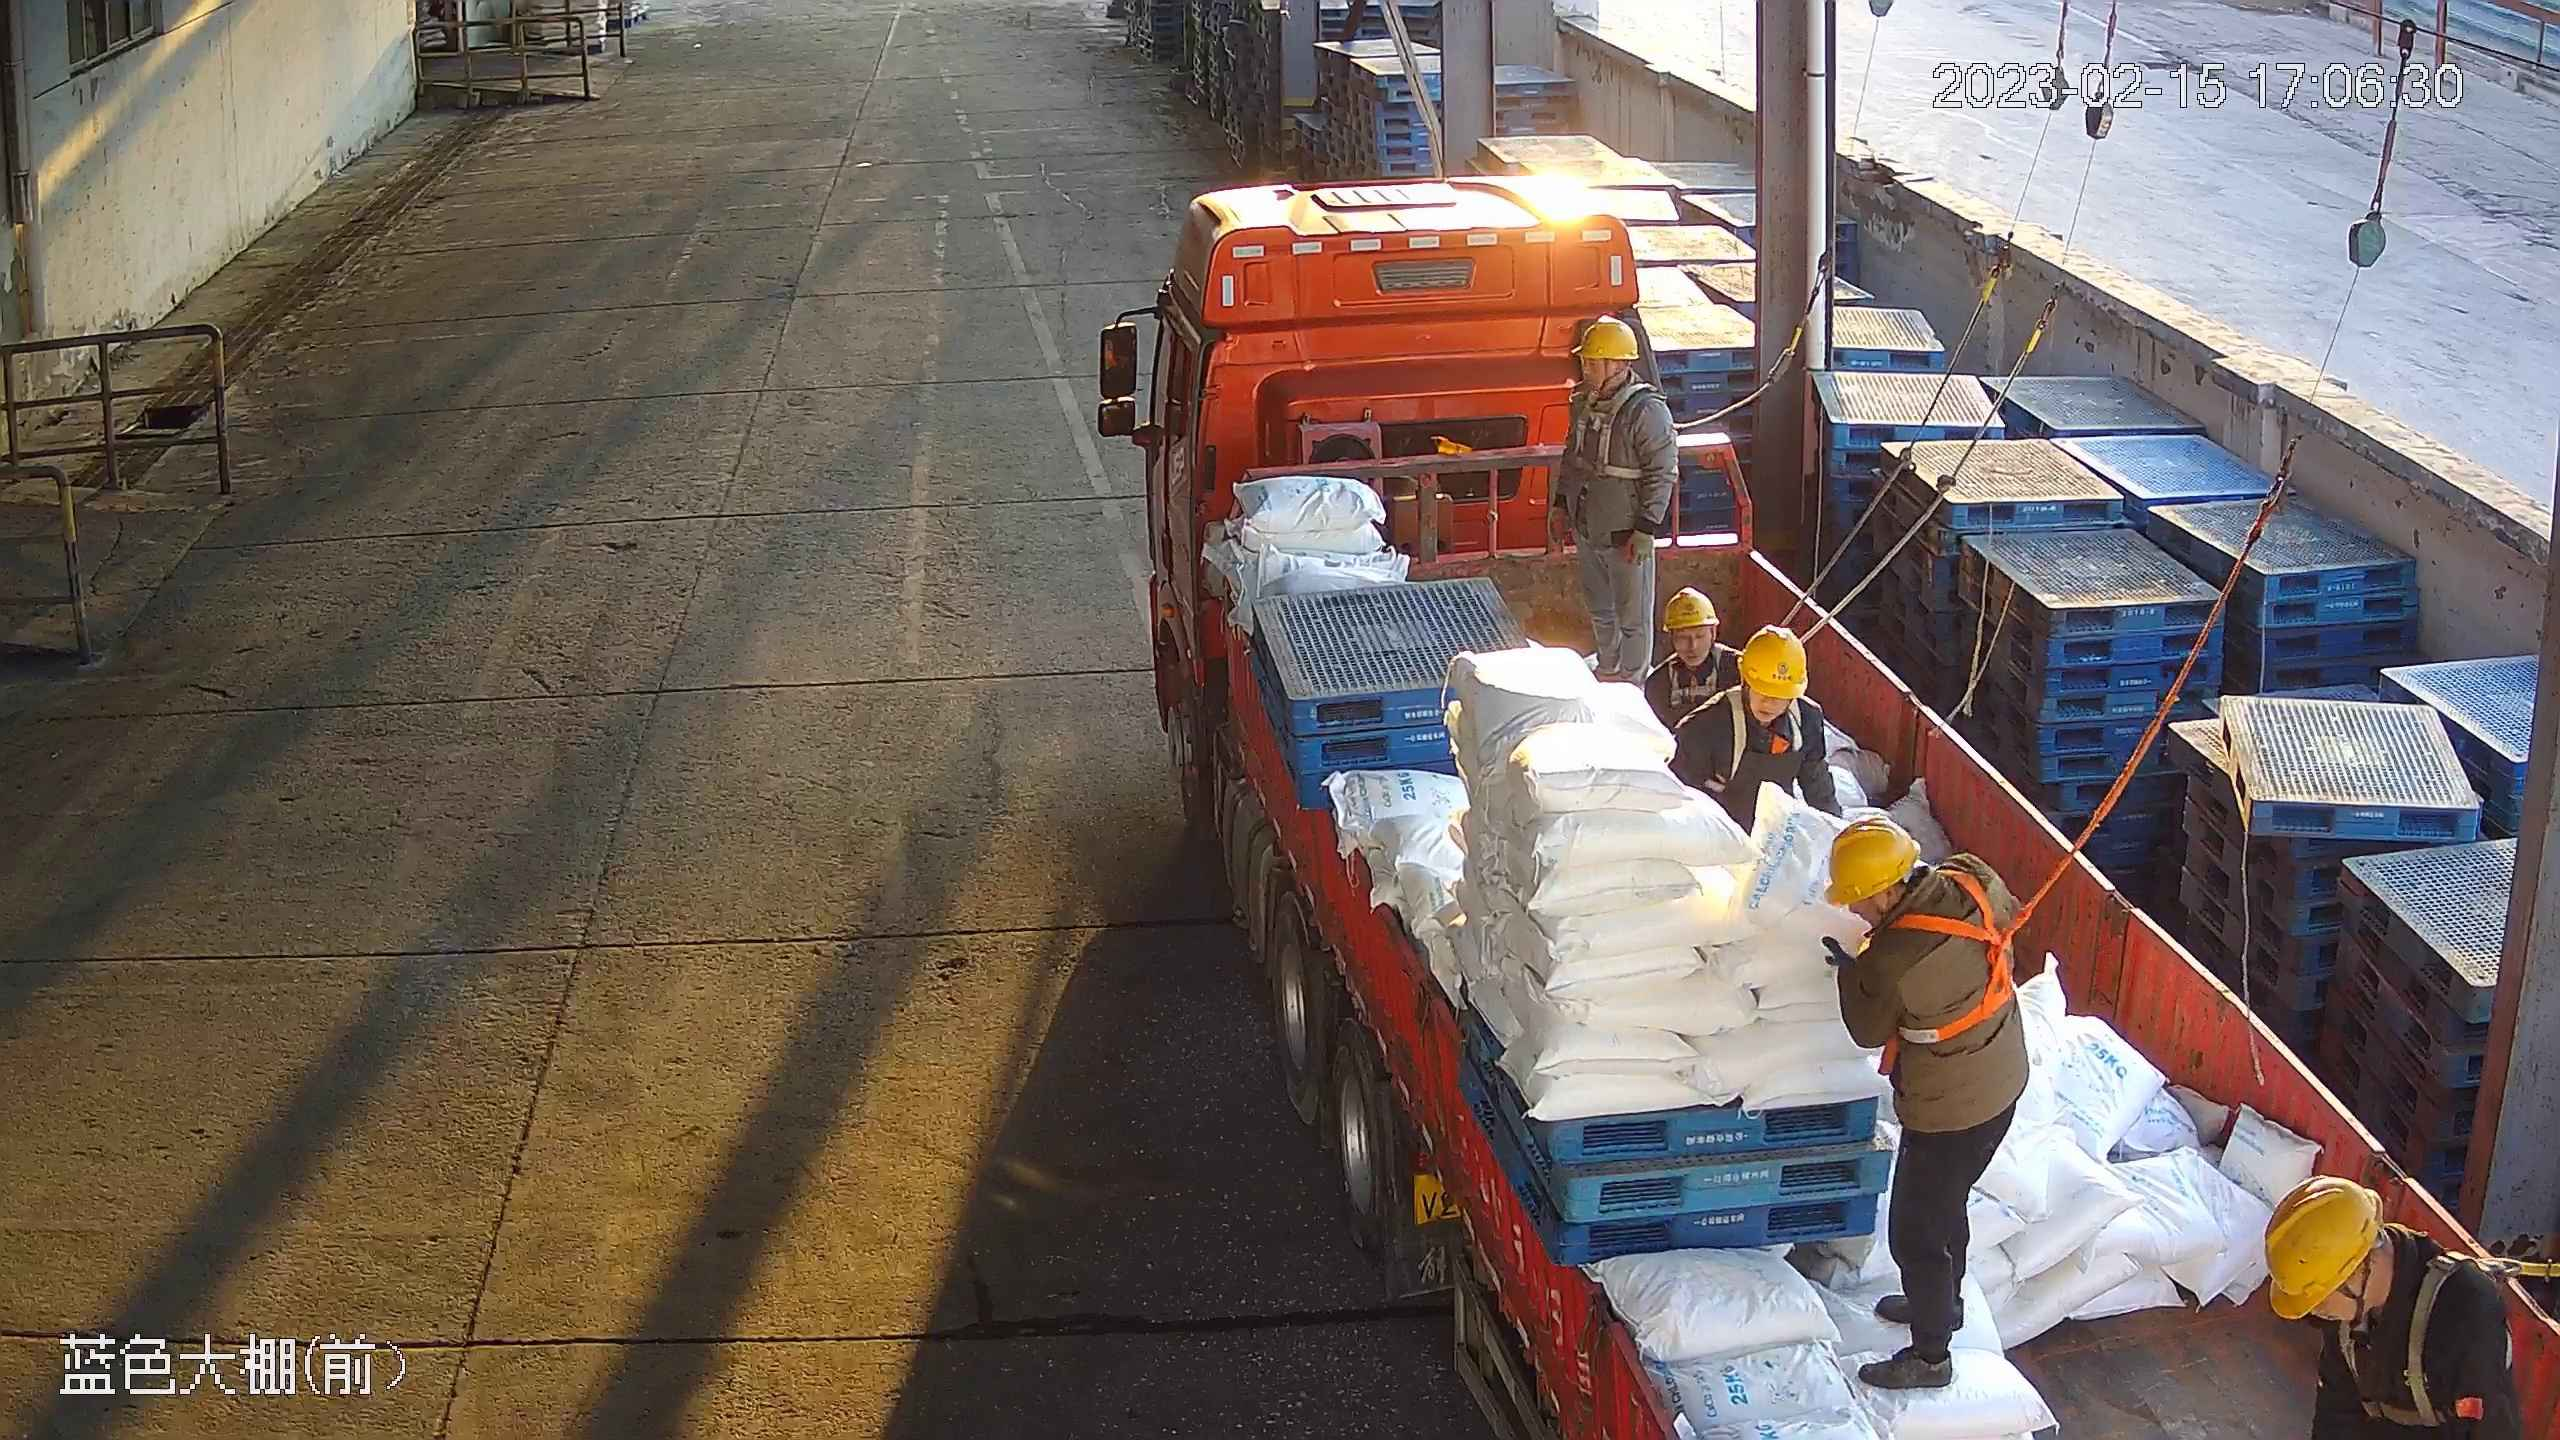belt: (2336, 1251, 2519, 1433), (1893, 860, 2039, 1047), (1570, 387, 1670, 478), (1725, 696, 1815, 781), (1663, 645, 1730, 699)
head: (2261, 1172, 2518, 1430), (1823, 816, 2011, 982), (1678, 628, 1829, 776), (1562, 315, 1675, 445), (1647, 584, 1745, 725)
helmet: (2267, 1175, 2384, 1321), (1824, 812, 1918, 905), (1736, 624, 1809, 700), (1567, 317, 1640, 360), (1661, 589, 1722, 633)
people: (1821, 815, 2031, 1393), (1541, 314, 1682, 683)
truck: (1090, 167, 2560, 1440)
